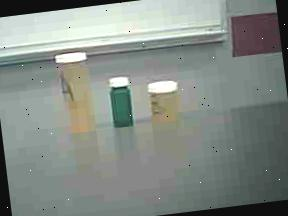Bottle A: (51, 46, 104, 138)
Bottle B: (144, 76, 188, 131)
Bottle C: (106, 74, 138, 132)
